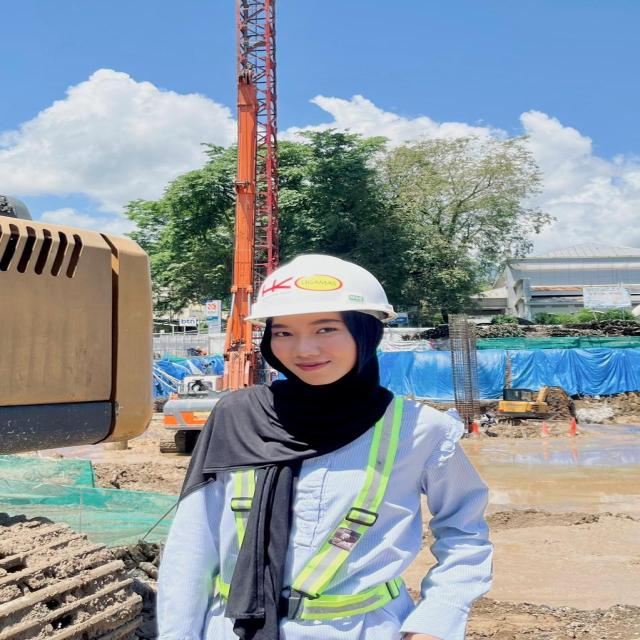safetyhelmet: (239, 252, 401, 393)
